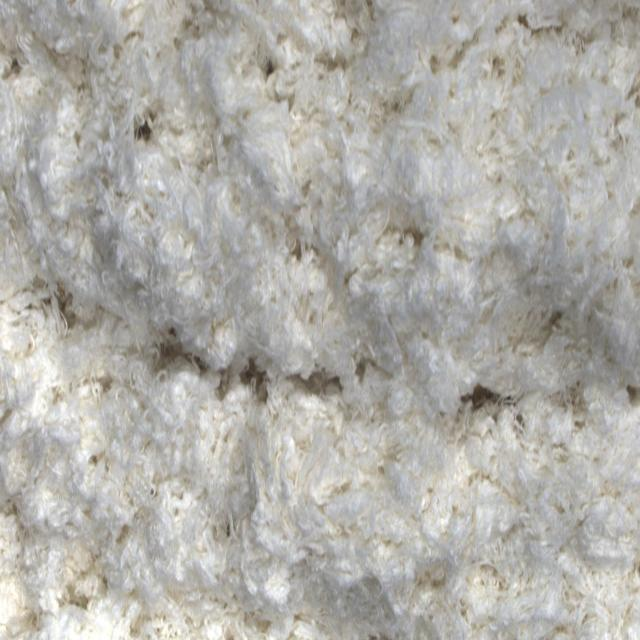dust: (220, 362, 265, 400)
